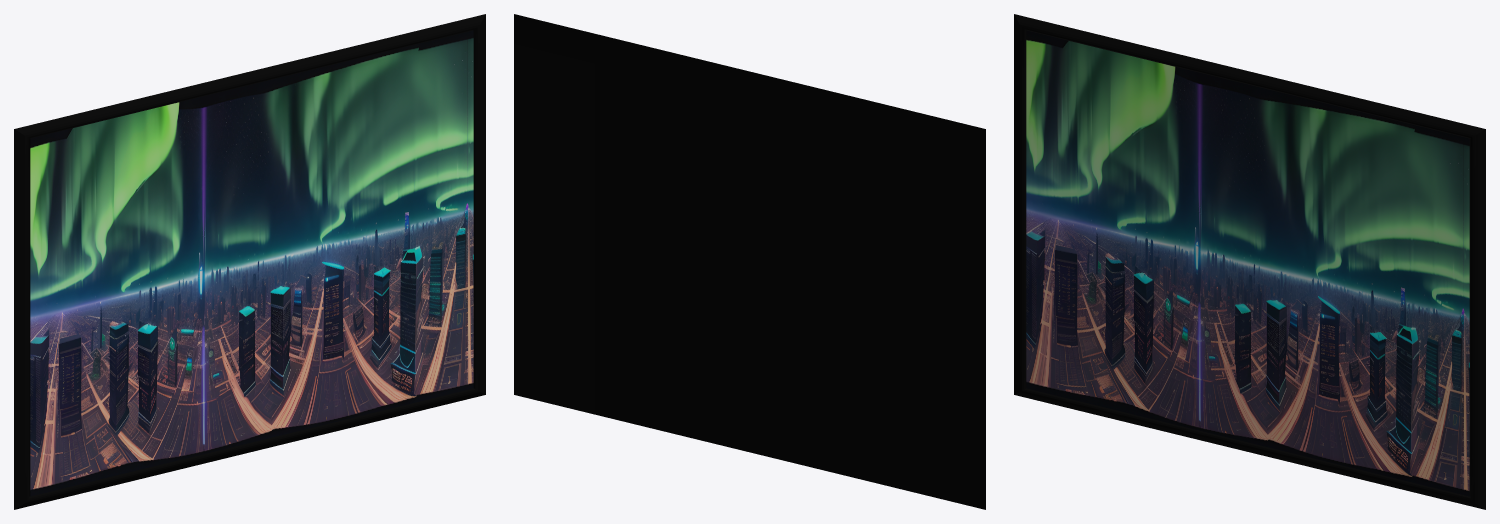
Rendered from painting.glb.
3 views of the same model, side by side, from view 1: azimuth 30°, elevation 25°; view 2: azimuth 150°, elevation 25°; view 3: azimuth 330°, elevation 25° (orthographic).
Visible parts, largest first — view 1: Plane; view 2: Plane; view 3: Plane.
Boxes of the visible parts, x1,y1,x2,y2 form: Plane: (14, 14, 485, 509); Plane: (514, 14, 985, 509); Plane: (1014, 14, 1485, 509).
Bounding box in the file's own units: 2.05 × 1.58 × 0.0208.
Materials: 2 (1 with a texture image).
